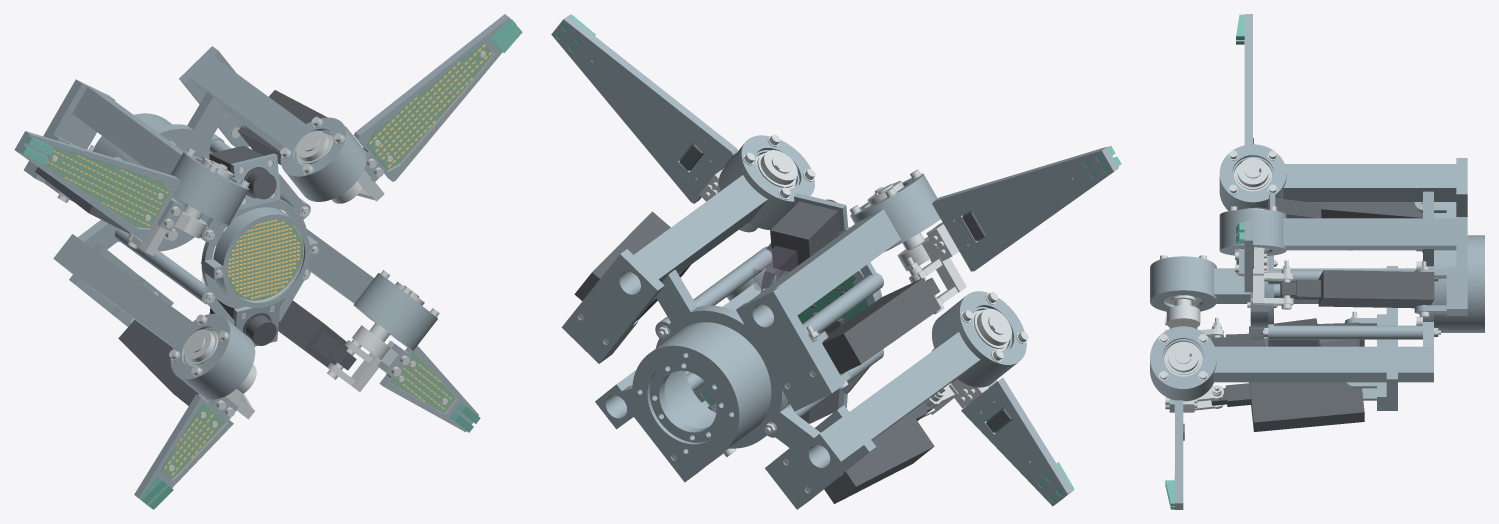
Rendered from HEAD-INTEGRATED04-open.glb.
3 views of the same model, side by side, from view 1: azimuth 30°, elevation 25°; view 2: azimuth 150°, elevation 25°; view 3: azimuth 270°, elevation 25° (orthographic). The views are drawn at different scales.
Parts seen in each view (by area): view 1: main_carrier, CD01-window, UR_lamp_optical_sheet, UL_lamp_optical_sheet, CD01-optical-frame, UL_lamp_PCB_outline, UR_lamp_PCB_outline, UR_metal_blade_with_narrow_tongue, CD01-PCB-outline, UL_metal_blade_with_narrow_tongue, LL_P16_envelope_case, LL_metal_blade_with_narrow_tongue (+22 smaller); view 2: main_carrier, UR_metal_blade_with_narrow_tongue, UL_metal_blade_with_narrow_tongue, J7_existing_adapter, UL_P16_envelope_case, LL_metal_blade_with_narrow_tongue, J7_extension24, LL_P16_envelope_case, camera_1_physical_keepout, LL_bearing_outer_cap, UL_integral_steel_crank_spindle, UR_bearing_outer_cap (+10 smaller); view 3: main_carrier, LR_P16_envelope_case, UR_P16_envelope_case, optic_column_35.0_-22.0, LR_bearing_outer_cap, UL_bearing_outer_cap, J7_existing_adapter, UL_P16_envelope_case, J7_extension24, UR_integral_steel_crank_spindle, UL_metal_blade_with_narrow_tongue, LL_integral_steel_crank_spindle (+19 smaller).
Part boxes in pixels (x1,y1,x2,y2): main_carrier: [24, 46, 433, 399]; CD01-window: [228, 220, 303, 301]; UR_lamp_optical_sheet: [367, 43, 494, 171]; UL_lamp_optical_sheet: [45, 148, 172, 229]; CD01-optical-frame: [199, 153, 310, 346]; UL_lamp_PCB_outline: [45, 147, 170, 228]; UR_lamp_PCB_outline: [367, 42, 493, 170]; UR_metal_blade_with_narrow_tongue: [353, 14, 509, 181]; CD01-PCB-outline: [227, 219, 302, 300]; UL_metal_blade_with_narrow_tongue: [14, 131, 180, 242]; LL_P16_envelope_case: [118, 320, 198, 405]; LL_metal_blade_with_narrow_tongue: [134, 394, 233, 506]; main_carrier: [561, 148, 1013, 509]; UR_metal_blade_with_narrow_tongue: [551, 15, 737, 203]; UL_metal_blade_with_narrow_tongue: [932, 147, 1118, 271]; J7_existing_adapter: [632, 337, 750, 460]; UL_P16_envelope_case: [822, 277, 940, 374]; LL_metal_blade_with_narrow_tongue: [961, 377, 1072, 506]; J7_extension24: [663, 322, 771, 442]; LL_P16_envelope_case: [824, 412, 934, 503]; camera_1_physical_keepout: [770, 199, 839, 271]; LL_bearing_outer_cap: [955, 291, 1026, 368]; UL_integral_steel_crank_spindle: [874, 183, 966, 305]; UR_bearing_outer_cap: [738, 135, 814, 205]; main_carrier: [1150, 158, 1467, 410]; LR_P16_envelope_case: [1249, 382, 1364, 431]; UR_P16_envelope_case: [1318, 270, 1434, 308]; optic_column_35.0_-22.0: [1274, 325, 1422, 339]; LR_bearing_outer_cap: [1150, 326, 1216, 390]; UL_bearing_outer_cap: [1219, 144, 1286, 204]; J7_existing_adapter: [1467, 235, 1484, 332]; UL_P16_envelope_case: [1319, 202, 1422, 218]; J7_extension24: [1434, 250, 1467, 332]; UR_integral_steel_crank_spindle: [1236, 247, 1293, 305]; UL_metal_blade_with_narrow_tongue: [1244, 14, 1252, 144]; LL_integral_steel_crank_spindle: [1166, 295, 1223, 338].
Bounding box in the file's own units: 0.3685 × 0.2571 × 0.2405.
